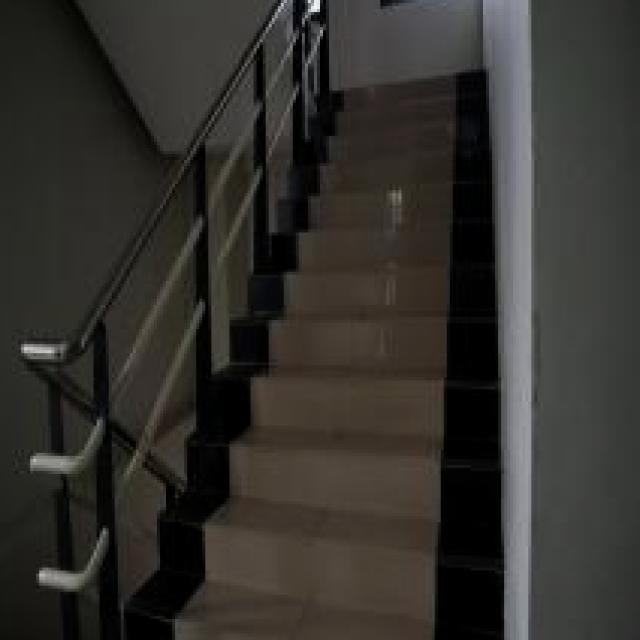upstair: (224, 155, 496, 620)
